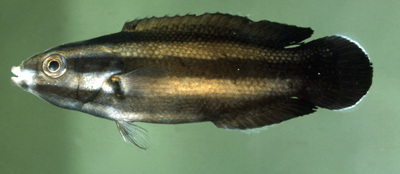fish: (10, 12, 374, 150)
